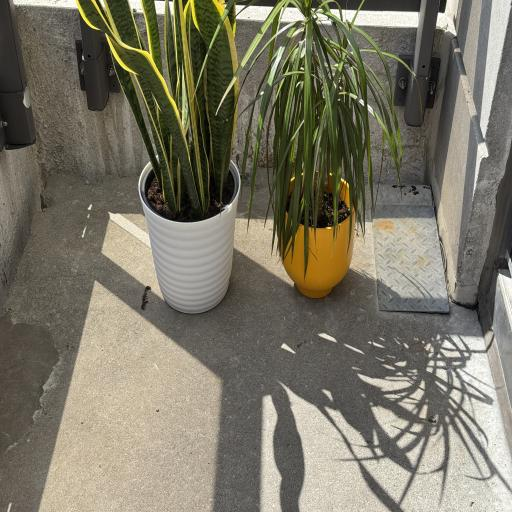Plant Pot: (138, 153, 240, 314), (276, 171, 356, 299)
